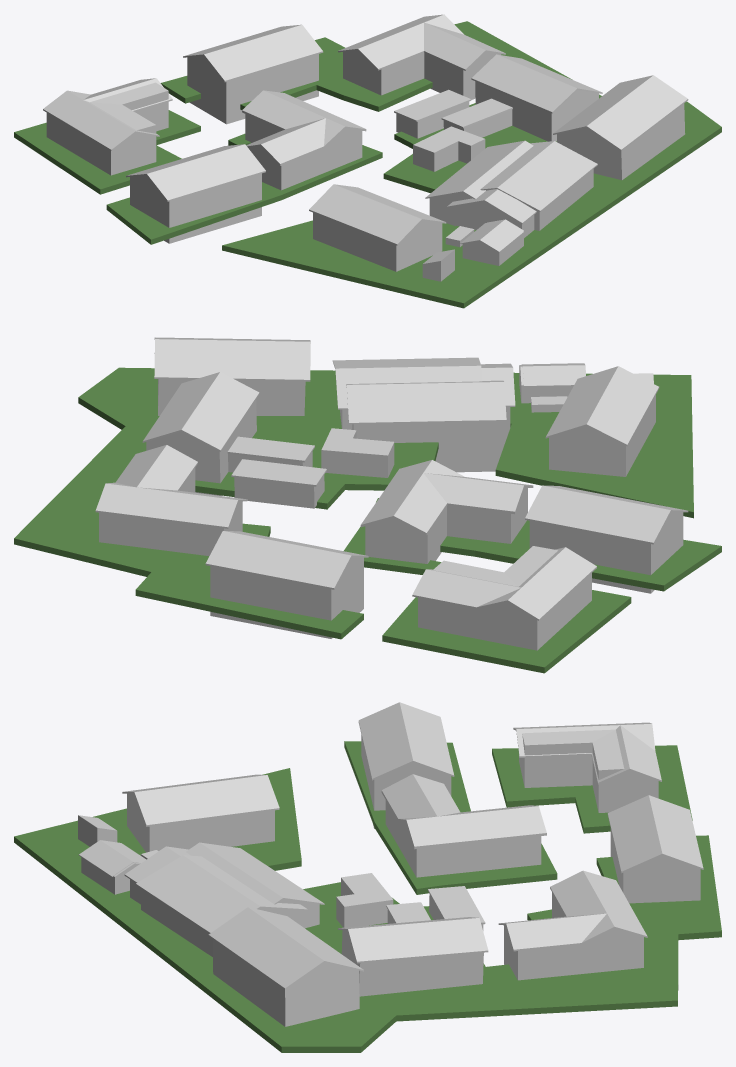
File: building2.fbx
3 renders of one model, top to bottom at view 1: azimuth 30°, elevation 25°; view 2: azimuth 150°, elevation 25°; view 3: azimuth 270°, elevation 25°, orthographic. The views are drawn at different scales.
Visible parts, largest first — view 1: Plane.005; view 2: Plane.005; view 3: Plane.005.
Part boxes in pixels (x1,y1,x2,y2): Plane.005: [14, 14, 721, 308]; Plane.005: [14, 337, 721, 673]; Plane.005: [14, 702, 721, 1052].
Bounding box in the file's own units: 12141 × 1630 × 11885.
